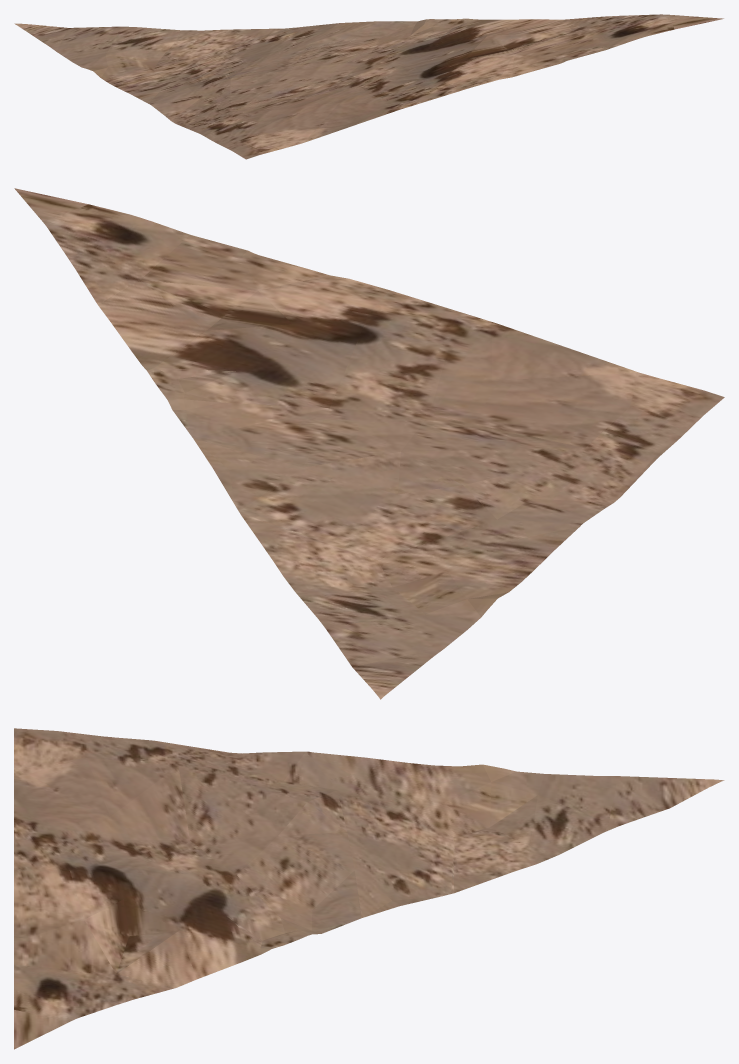
The picture shows the model from 3 angles, top to bottom: view 1: azimuth 30°, elevation 25°; view 2: azimuth 150°, elevation 25°; view 3: azimuth 270°, elevation 25°; orthographic projection. The views are drawn at different scales.
Bounding box in the file's own units: 3.52 × 0.4182 × 2.95.
1 material, 1 textured.
